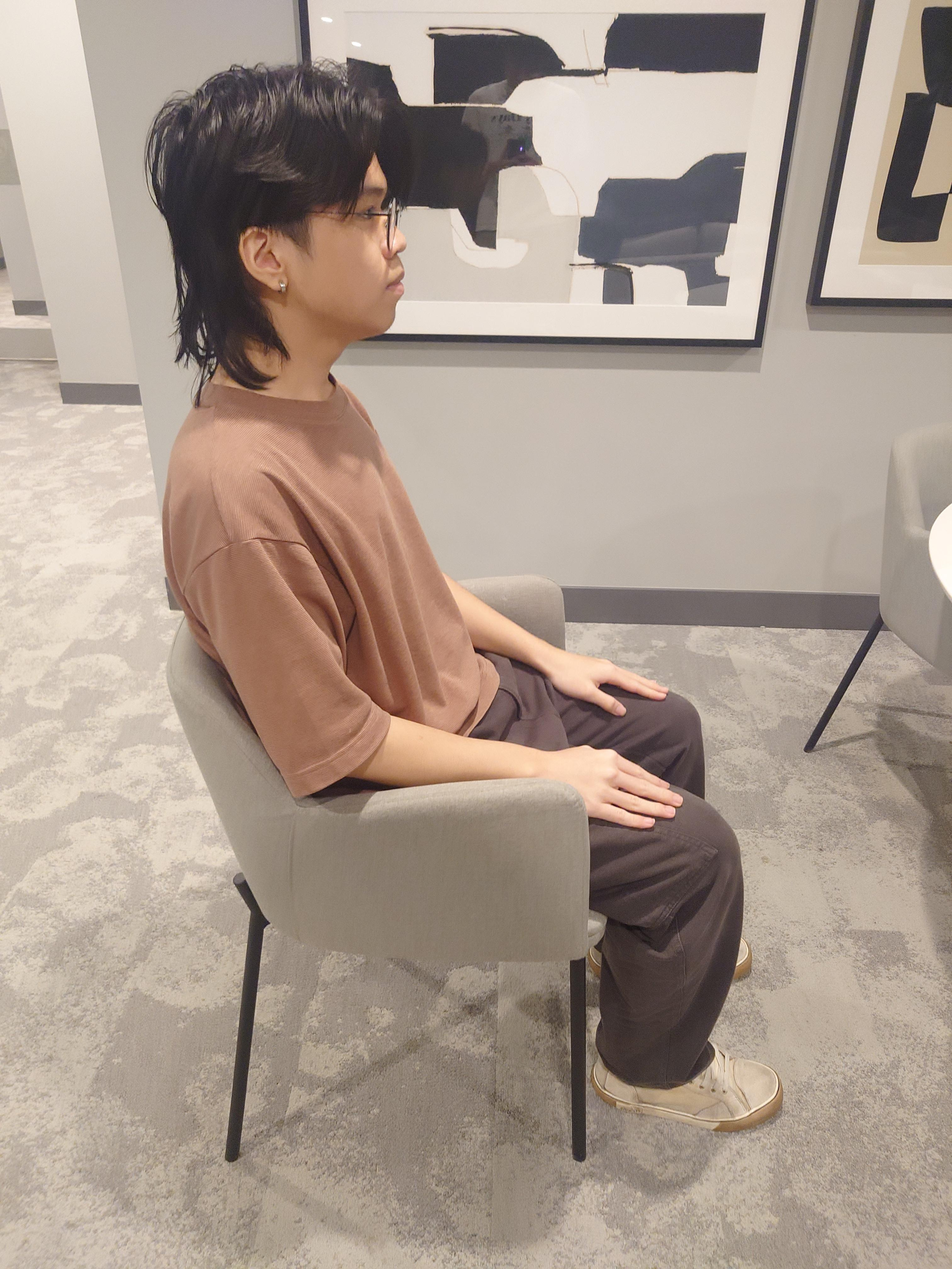GoodPosture: (139, 59, 784, 1132)
